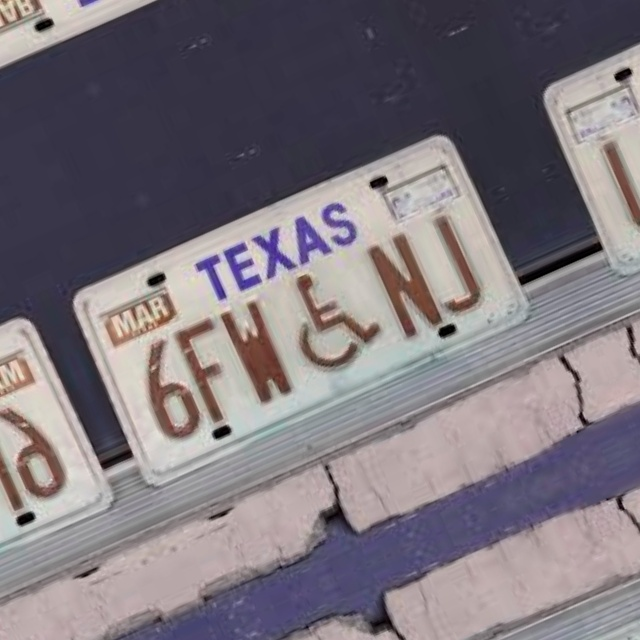ISA: (276, 255, 390, 379)
